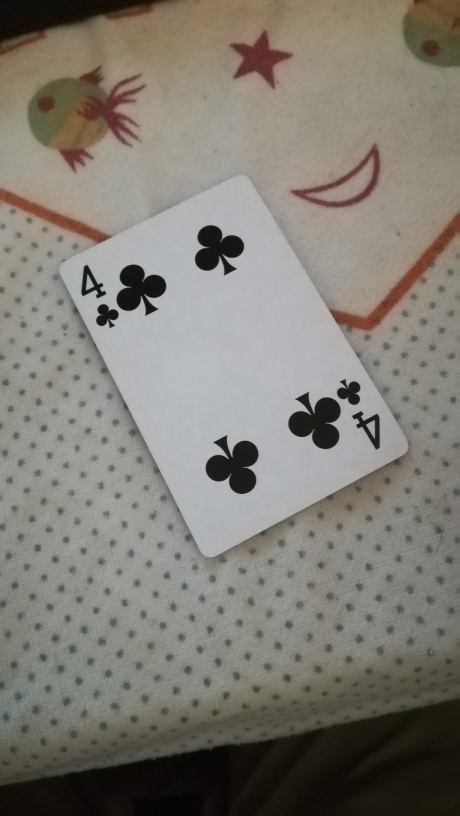mh 4: (55, 175, 408, 559)
